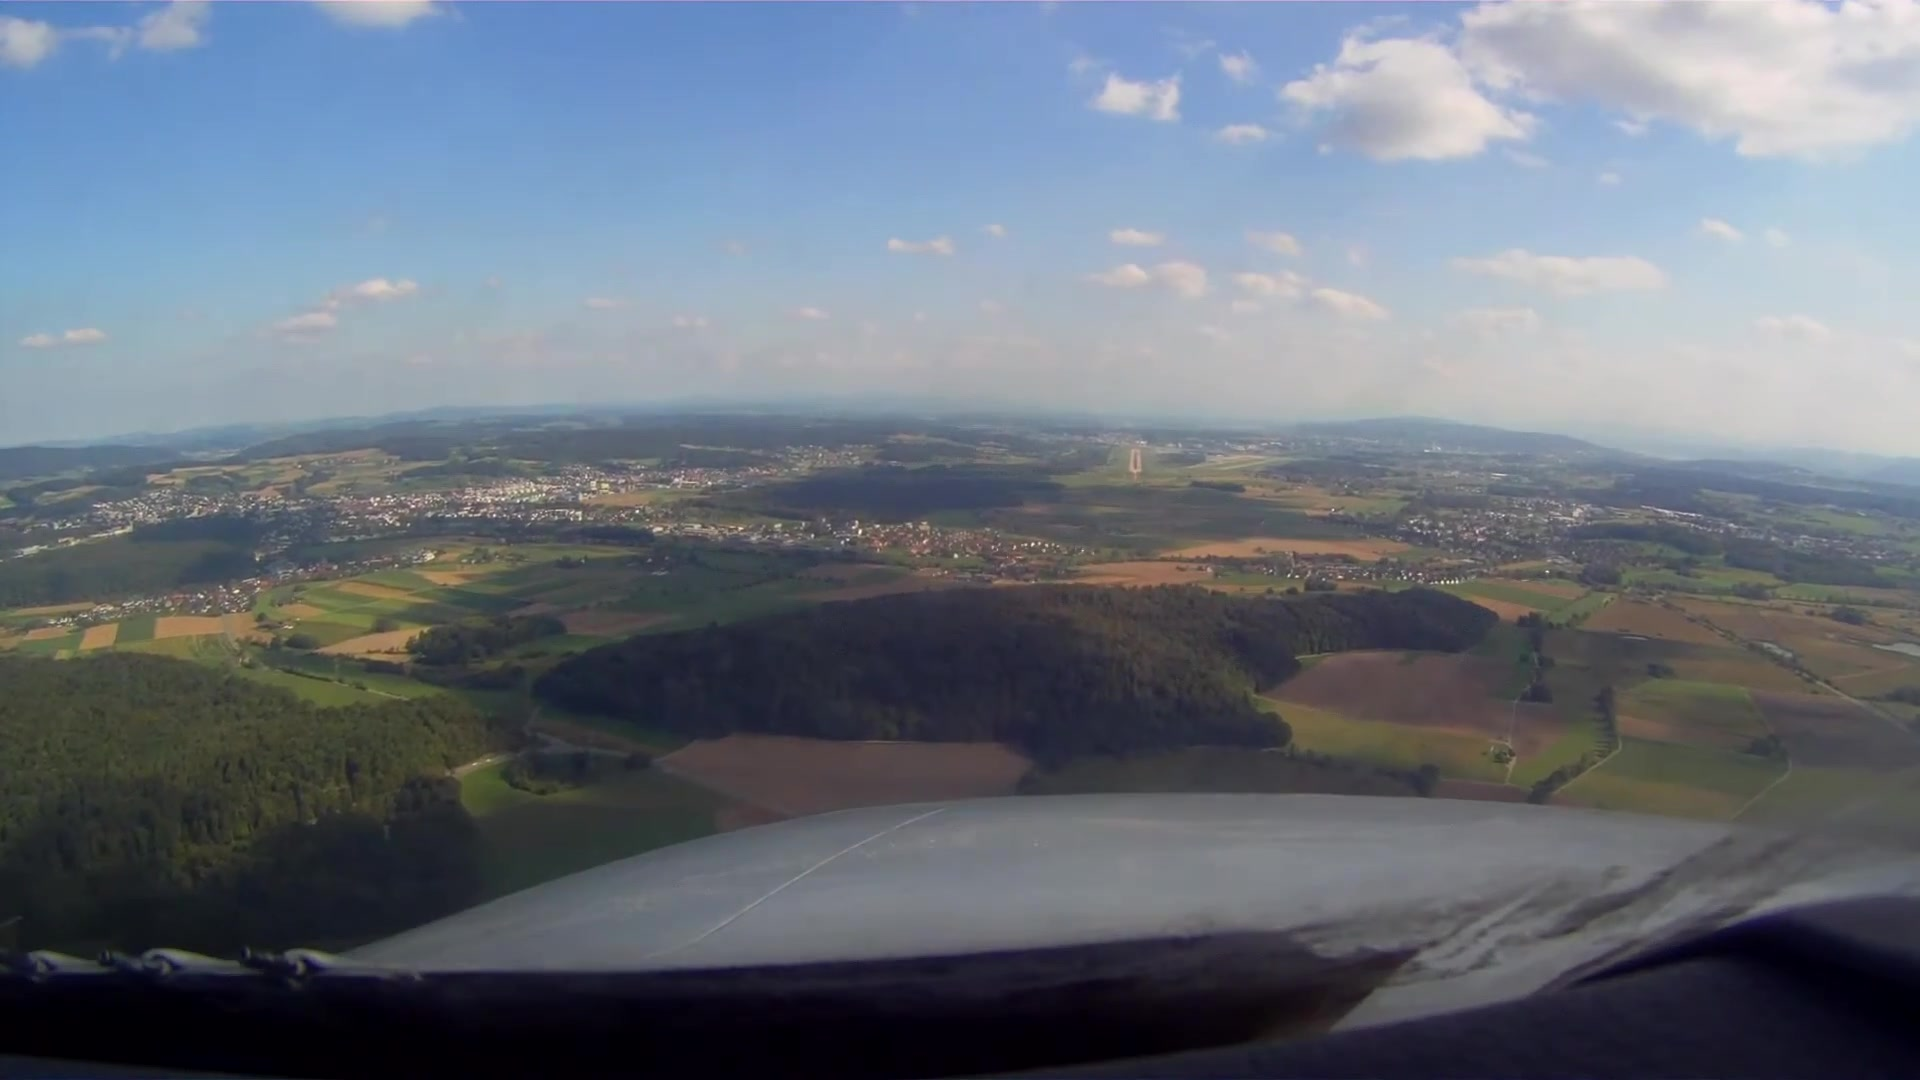runway: (1127, 448, 1145, 473)
